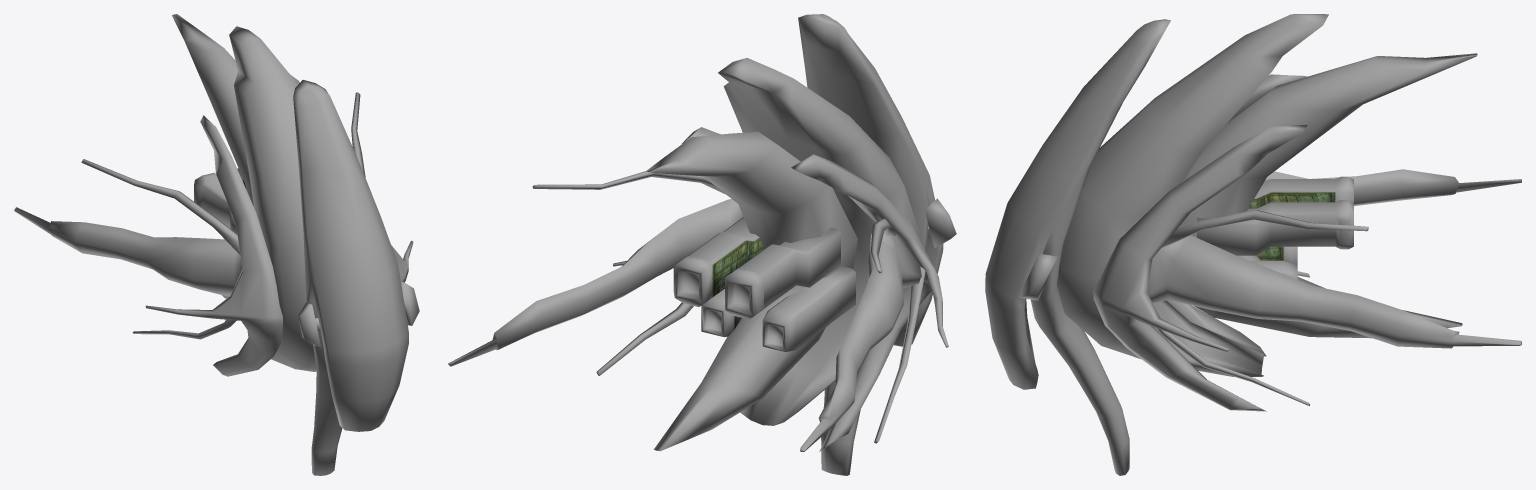
Rendered from MIcruiser02.dae.
The picture shows the model from 3 angles, left to right: view 1: azimuth 30°, elevation 25°; view 2: azimuth 150°, elevation 25°; view 3: azimuth 270°, elevation 25°; orthographic projection. The views are drawn at different scales.
Visible parts, largest first — view 1: Cube; view 2: Cube; view 3: Cube.
Part boxes in pixels (x1,y1,x2,y2): Cube: (14,14,419,475); Cube: (448,14,956,475); Cube: (985,14,1521,475).
Size of the model in its own units: 8.08 by 10.41 by 11.09.
